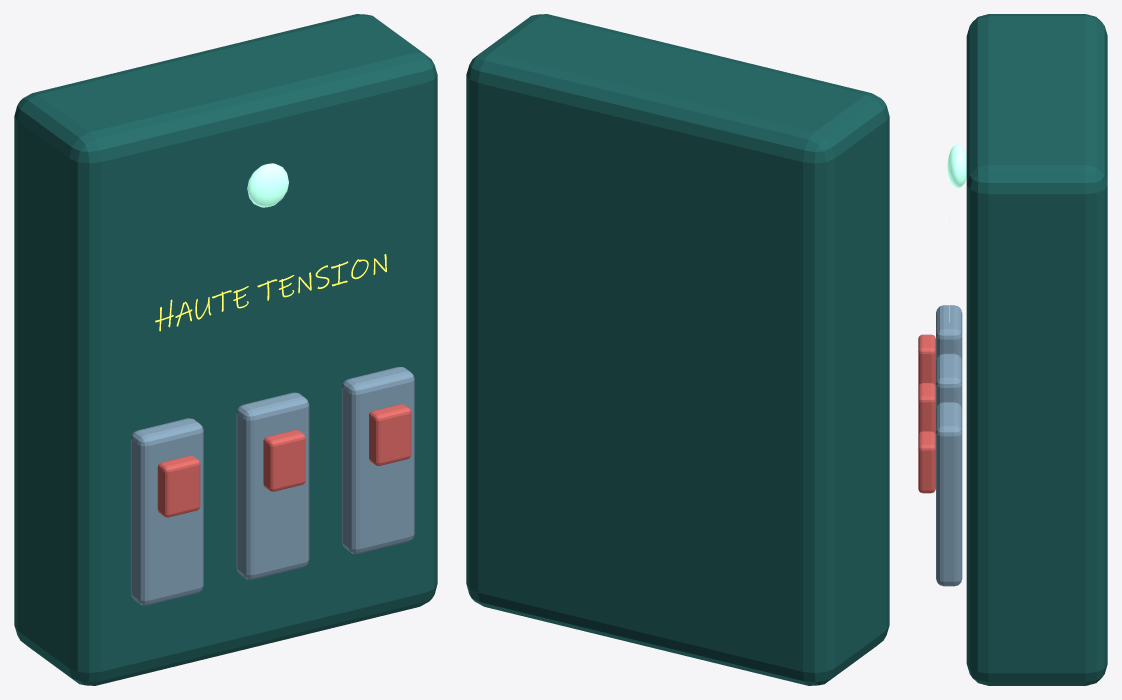
File: fusebox.glb
The picture shows the model from 3 angles, left to right: view 1: azimuth 30°, elevation 25°; view 2: azimuth 150°, elevation 25°; view 3: azimuth 270°, elevation 25°; orthographic projection. The views are drawn at different scales.
Visible parts, largest first — view 1: Cabinet, Switch.001, Switch, Switch.002, Red_lever, Red_lever.001, Red_lever.002, Indicator, Flat_warning; view 2: Cabinet; view 3: Cabinet, Switch.002, Switch, Switch.001, Red_lever.002, Red_lever, Red_lever.001, Indicator.
Part boxes in pixels (x1,y1,x2,y2): Cabinet: [14, 14, 437, 685]; Switch.001: [236, 392, 309, 579]; Switch: [131, 418, 203, 605]; Switch.002: [342, 367, 414, 553]; Red_lever: [157, 455, 200, 517]; Red_lever.001: [263, 430, 305, 491]; Red_lever.002: [369, 404, 411, 465]; Indicator: [247, 163, 288, 207]; Flat_warning: [155, 254, 386, 331]; Cabinet: [466, 14, 889, 685]; Cabinet: [966, 14, 1107, 685]; Switch.002: [936, 402, 962, 586]; Switch: [936, 305, 962, 360]; Switch.001: [936, 353, 962, 408]; Red_lever.002: [918, 431, 935, 493]; Red_lever: [918, 334, 935, 386]; Red_lever.001: [918, 383, 935, 435]; Indicator: [947, 144, 966, 188].
Size of the model in its own units: 0.45 by 0.65 by 0.215.
